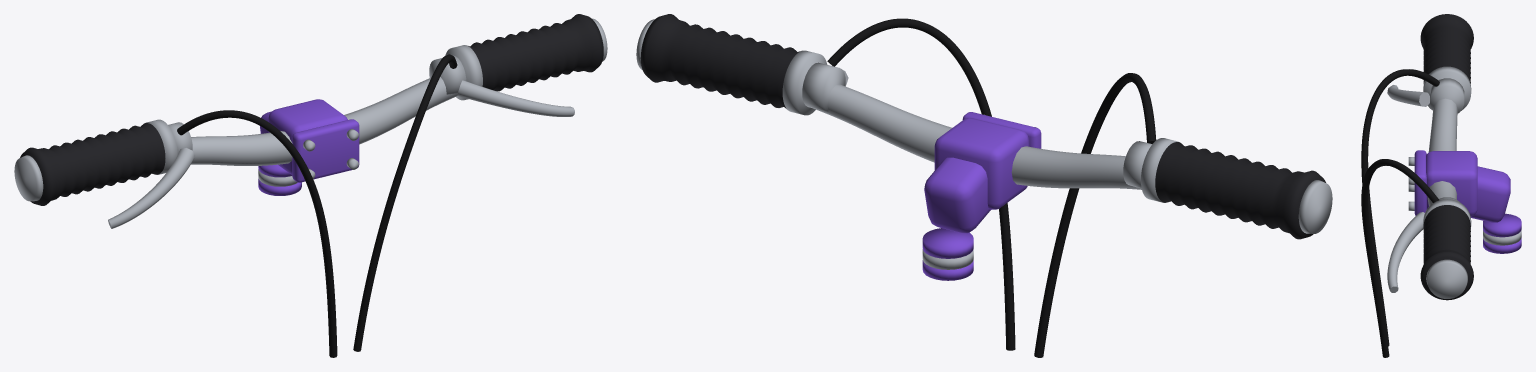
The model's file is bike-handlebar.glb.
The picture shows the model from 3 angles, left to right: view 1: azimuth 30°, elevation 25°; view 2: azimuth 150°, elevation 25°; view 3: azimuth 270°, elevation 25°; orthographic projection. The views are drawn at different scales.
Visible parts, largest first — view 1: handlebar; view 2: handlebar; view 3: handlebar.
Part boxes in pixels (x1=…): handlebar: x1=14, y1=14, x2=607, y2=357; handlebar: x1=636, y1=14, x2=1332, y2=357; handlebar: x1=1361, y1=14, x2=1521, y2=357.
Size of the model in its own units: 0.576 by 0.2543 by 0.1573.
